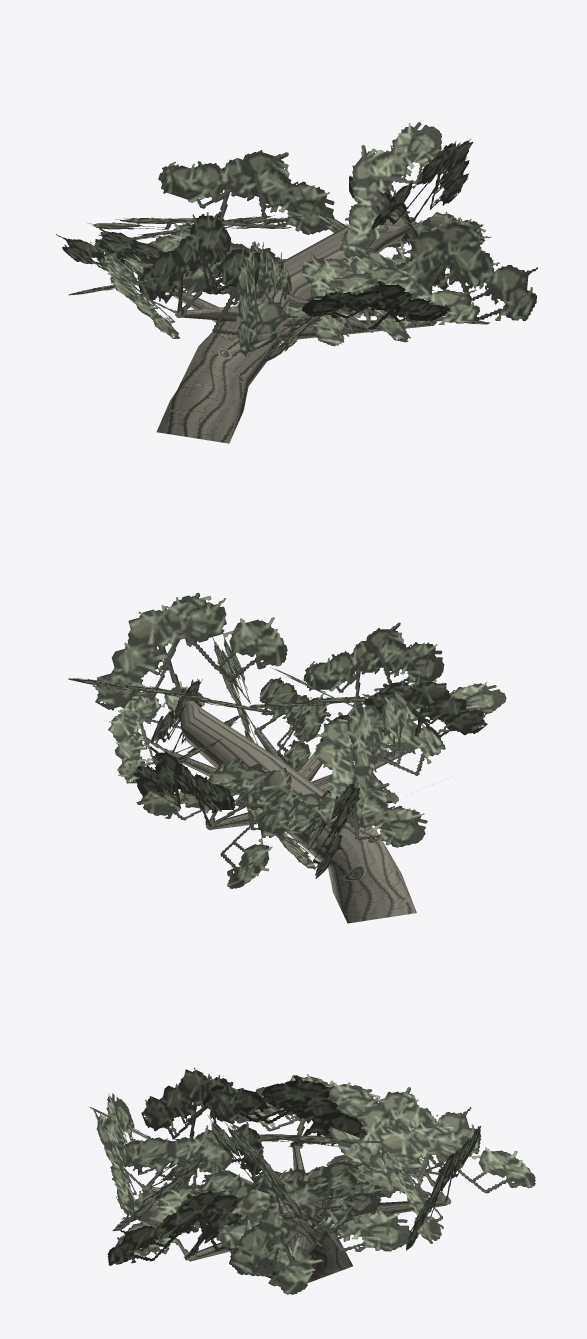
The model's file is tundra-krummholz-mobile.glb.
3 views of the same model, one above another, from view 1: azimuth 30°, elevation 25°; view 2: azimuth 150°, elevation 25°; view 3: azimuth 270°, elevation 25° (orthographic). The views are drawn at different scales.
Visible parts, largest first — view 1: Tundra krummholz mobile v3 runtime; view 2: Tundra krummholz mobile v3 runtime; view 3: Tundra krummholz mobile v3 runtime.
Part boxes in pixels (x1,y1,x2,y2): Tundra krummholz mobile v3 runtime: (56, 122, 537, 443); Tundra krummholz mobile v3 runtime: (68, 592, 506, 923); Tundra krummholz mobile v3 runtime: (89, 1067, 535, 1294).
Size of the model in its own units: 5.53 by 3.37 by 4.96.
Materials: 1 (1 with a texture image).
